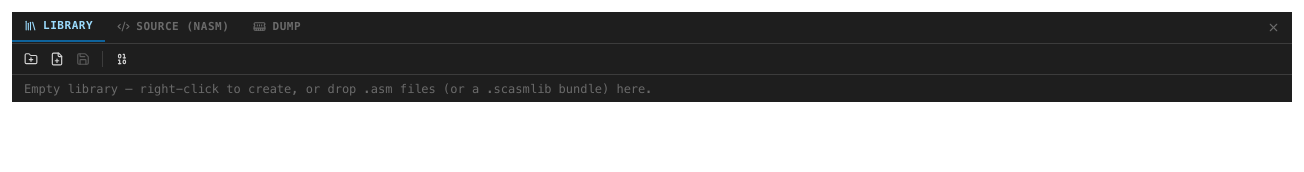
it: erro de montagem ainda ganha do dump: o erro fica ancorado no fonte
Click the button "Dump".
click(277, 27)  # box left=242, top=12, right=313, bottom=42
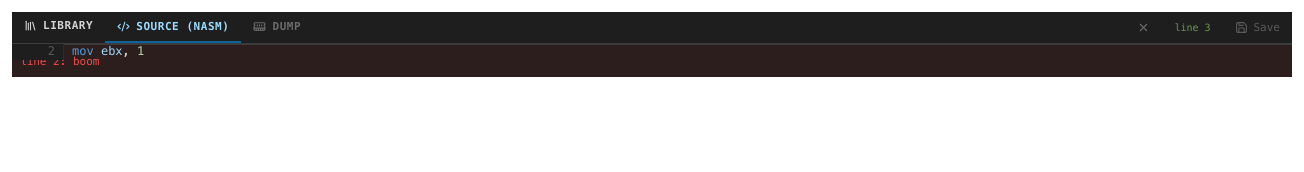
Result: the text "boom" is shown at left=73, top=54, right=100, bottom=68
Result: the text box named "Source (NASM)" is shown at left=12, top=44, right=1292, bottom=60
